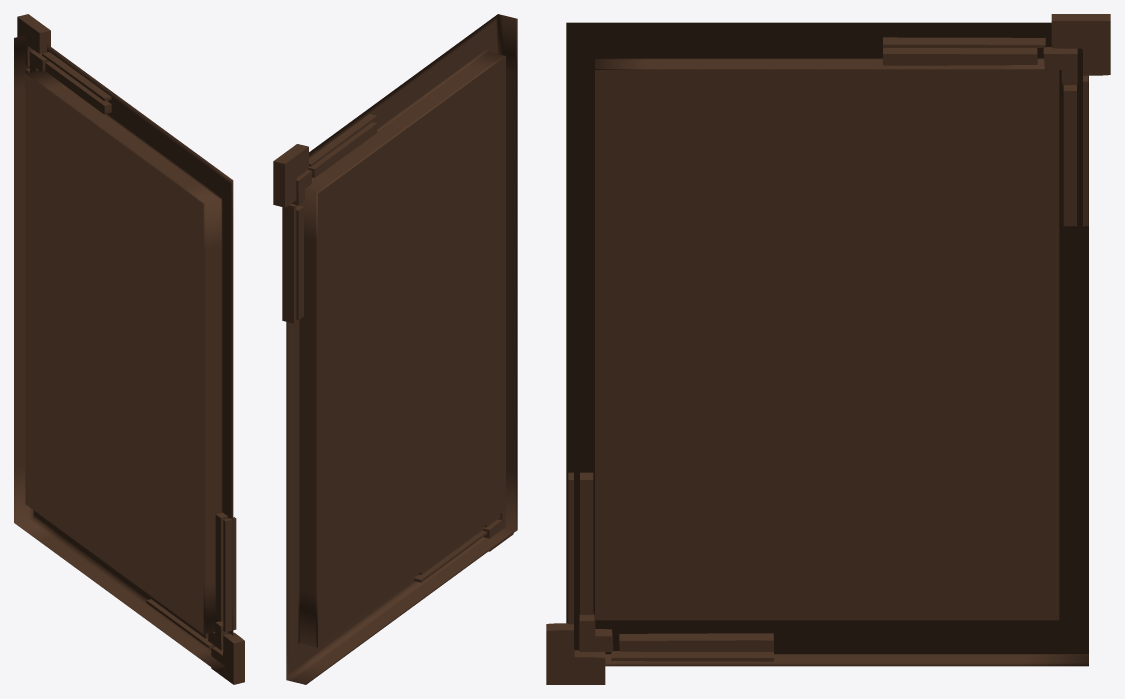
Rendered from asset.gltf.
The picture shows the model from 3 angles, left to right: view 1: azimuth 30°, elevation 25°; view 2: azimuth 150°, elevation 25°; view 3: azimuth 270°, elevation 25°; orthographic projection. The views are drawn at different scales.
Visible parts, largest first — view 1: Pintura_Plane; view 2: Pintura_Plane; view 3: Pintura_Plane.
Boxes of the visible parts, x1=… form: Pintura_Plane: x1=14, y1=14, x2=244, y2=684; Pintura_Plane: x1=273, y1=14, x2=517, y2=684; Pintura_Plane: x1=546, y1=14, x2=1110, y2=684.
Bounding box in the file's own units: 0.0314 × 0.6752 × 0.5201.
